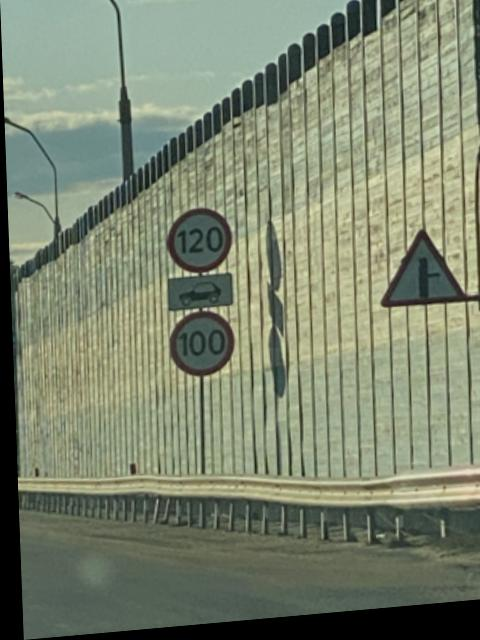limit100: (163, 309, 235, 382)
limit120: (156, 200, 238, 282)
